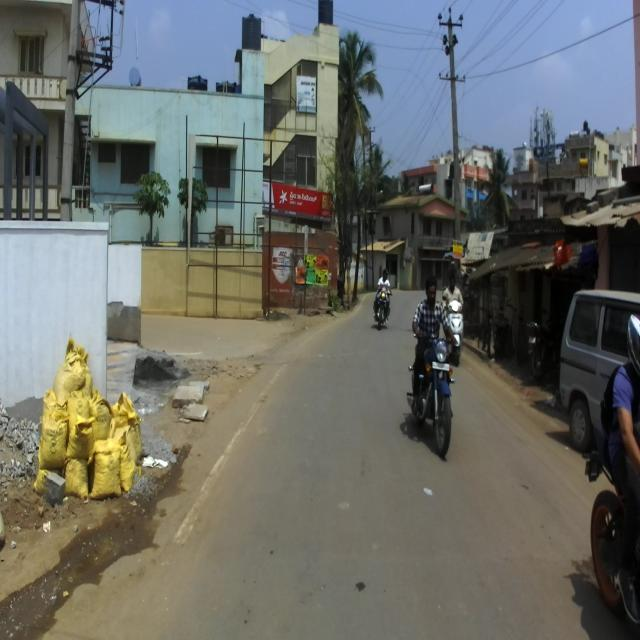motorcycle ahead at: (409, 277, 458, 452), (373, 262, 393, 332)
stones ahead at: (2, 412, 72, 504)
